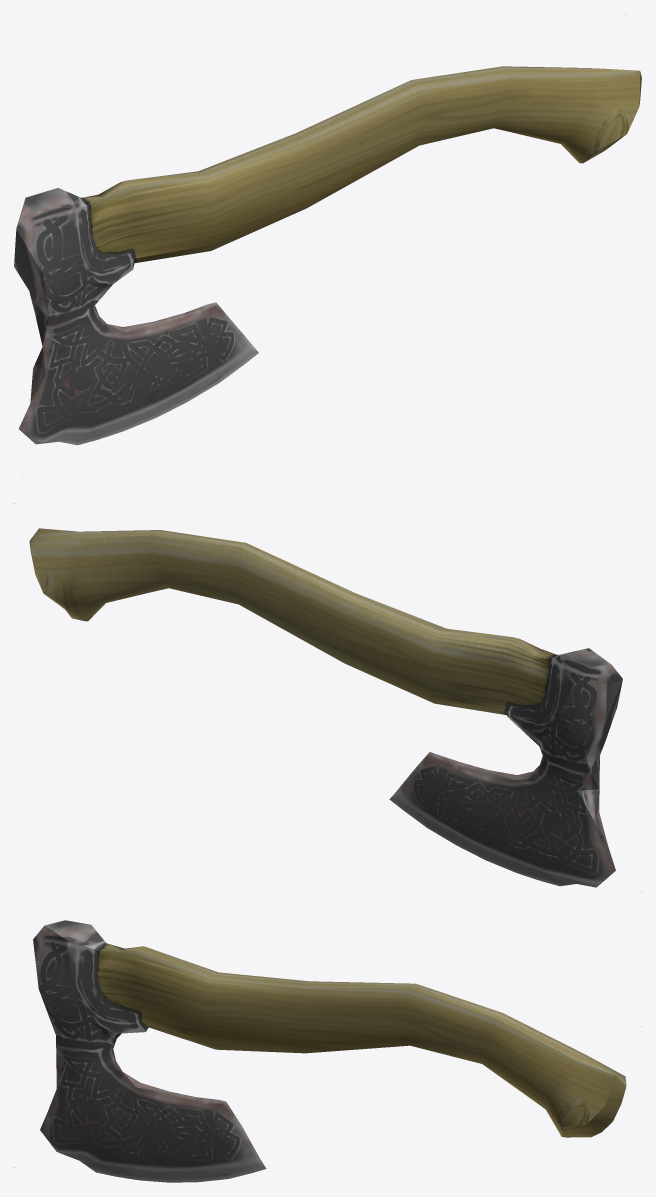
Rendered from Axt_LOD2.dae.
The picture shows the model from 3 angles, top to bottom: view 1: azimuth 30°, elevation 25°; view 2: azimuth 150°, elevation 25°; view 3: azimuth 330°, elevation 25°; orthographic projection. The views are drawn at different scales.
Parts seen in each view (by area): view 1: Axt_LOD2; view 2: Axt_LOD2; view 3: Axt_LOD2.
Part boxes in pixels (x1,y1,x2,y2): Axt_LOD2: (14, 14, 641, 445); Axt_LOD2: (14, 503, 641, 891); Axt_LOD2: (14, 920, 641, 1182).
Size of the model in its own units: 0.27 by 0.0242 by 0.1143.
Materials: 1 (1 with a texture image).
